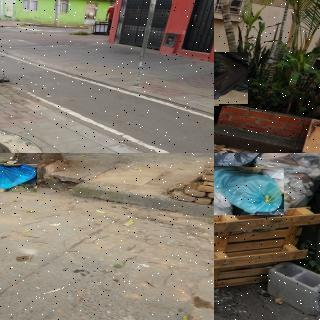Garbage: (214, 166, 284, 215), (256, 153, 320, 205), (214, 52, 248, 104), (0, 163, 36, 192)
